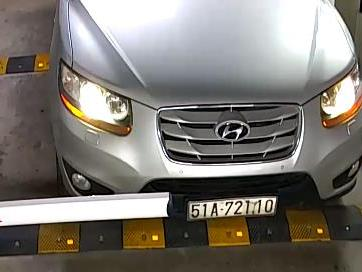number: (185, 197, 276, 221)
